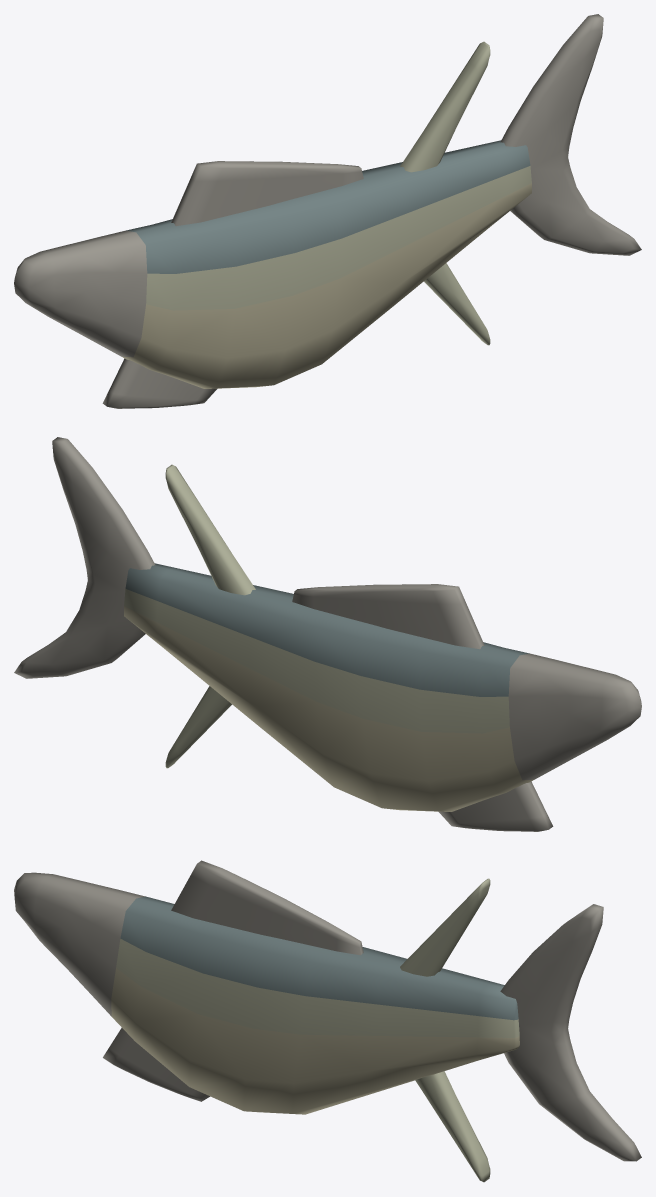
The model's file is prop-fish-tuna.glb.
The picture shows the model from 3 angles, top to bottom: view 1: azimuth 30°, elevation 25°; view 2: azimuth 150°, elevation 25°; view 3: azimuth 330°, elevation 25°; orthographic projection.
Visible parts, largest first — view 1: Prop_Fish_Tuna; view 2: Prop_Fish_Tuna; view 3: Prop_Fish_Tuna.
Boxes of the visible parts, <box> form: Prop_Fish_Tuna: <box>14,14,641,408</box>; Prop_Fish_Tuna: <box>14,437,641,831</box>; Prop_Fish_Tuna: <box>14,860,641,1182</box>.
Bounding box in the file's own units: 2.13 × 0.9759 × 0.2367.
1 material, 1 textured.
